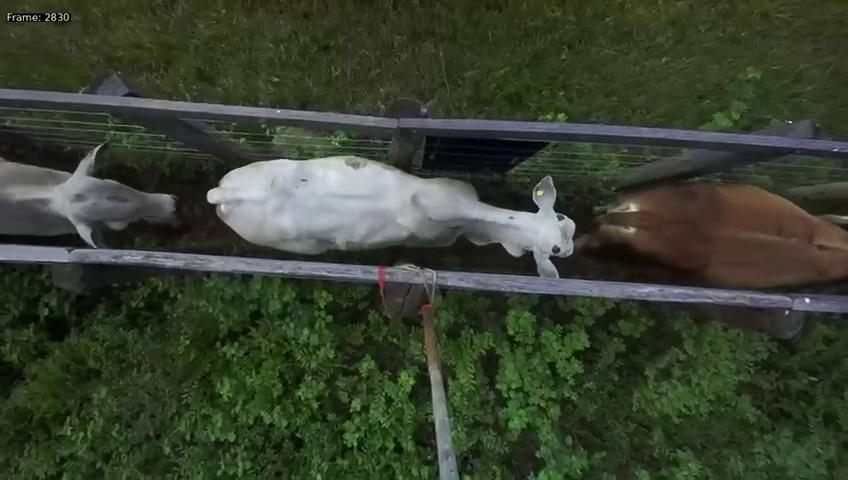cattle: (199, 130, 578, 277), (587, 169, 848, 296)
